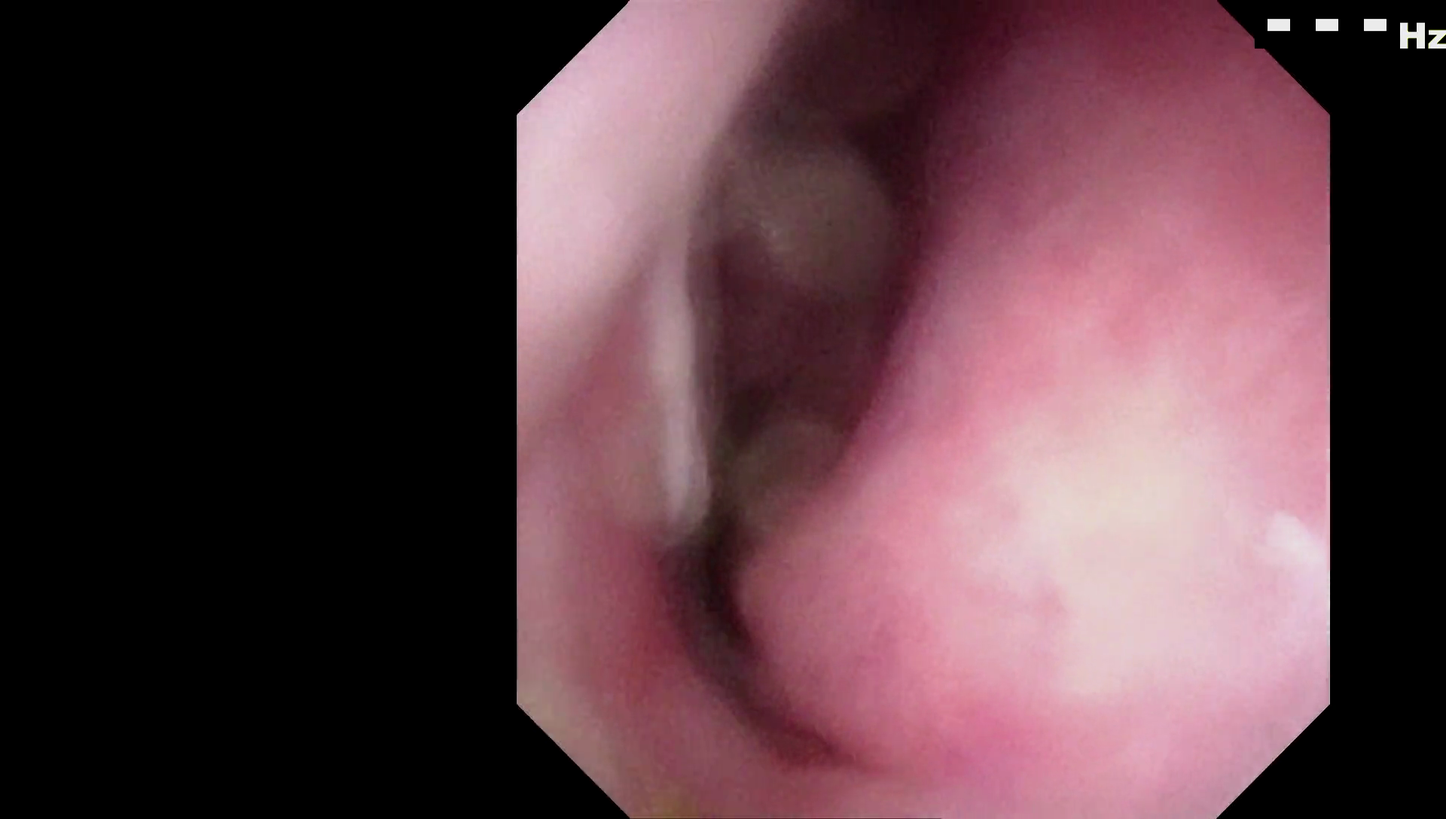close_wall: (877, 369, 1282, 754)
next: (675, 442, 786, 733)
